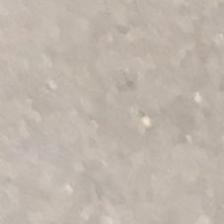Non_Crack: (29, 22, 194, 202)
